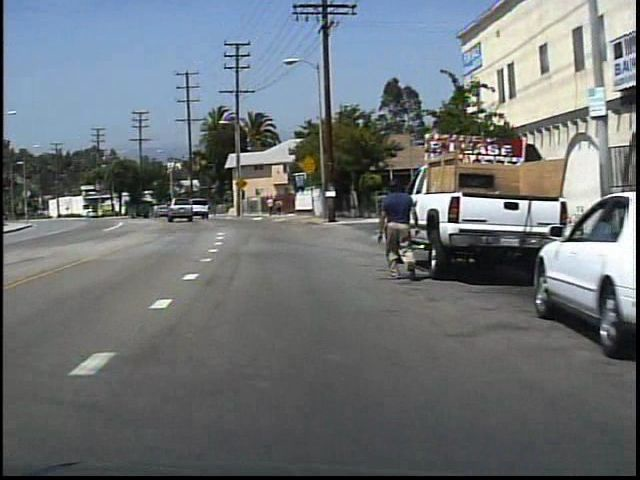person: (372, 173, 421, 283), (266, 194, 276, 218), (274, 197, 284, 217)
